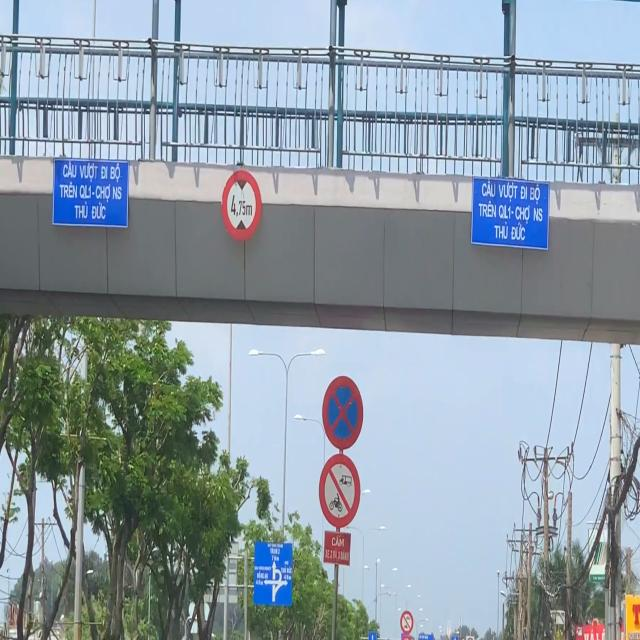Cam dung va do: (321, 374, 365, 453)
Chieu cao toi da: (218, 166, 265, 248)
